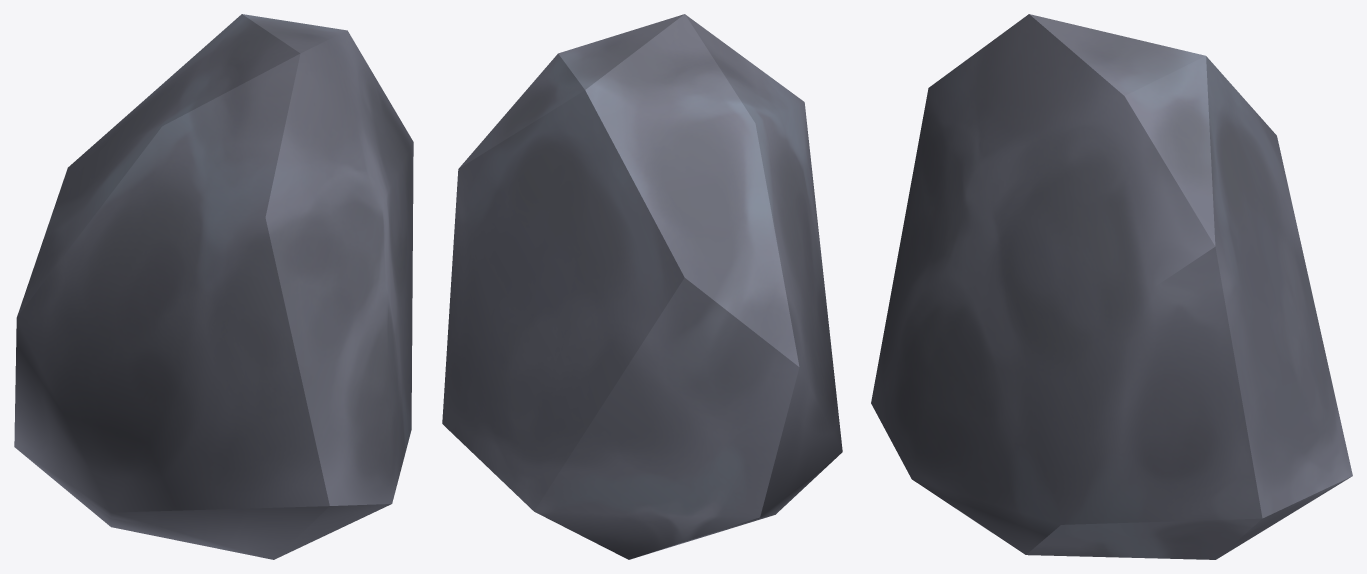
Rendered from rock_smol.glb.
The picture shows the model from 3 angles, left to right: view 1: azimuth 30°, elevation 25°; view 2: azimuth 150°, elevation 25°; view 3: azimuth 270°, elevation 25°; orthographic projection. The views are drawn at different scales.
Parts seen in each view (by area): view 1: rock 1_rock_0; view 2: rock 1_rock_0; view 3: rock 1_rock_0.
Boxes of the visible parts, left/top/right/bottom form: rock 1_rock_0: left=14, top=14, right=413, bottom=559; rock 1_rock_0: left=442, top=14, right=842, bottom=559; rock 1_rock_0: left=871, top=14, right=1352, bottom=559.
Bounding box in the file's own units: 0.5807 × 0.7294 × 0.6061.
Materials: 1 (1 with a texture image).
